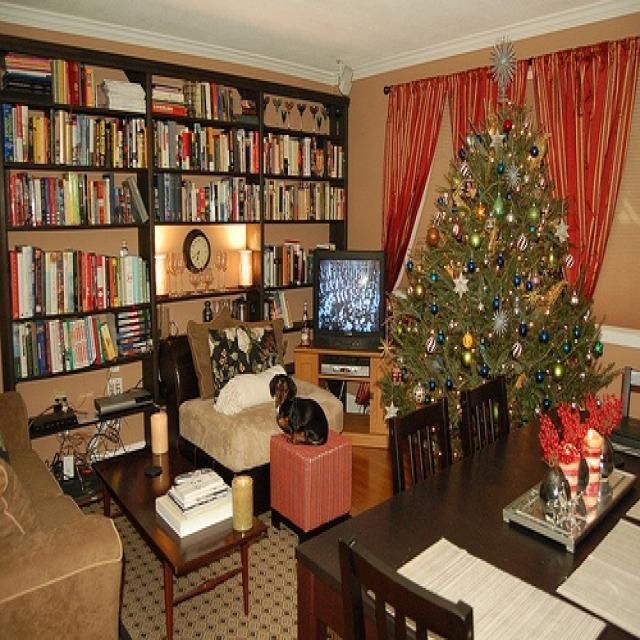chair: (339, 535, 478, 639), (384, 394, 454, 489), (458, 375, 509, 460), (621, 363, 640, 427)
diningtable: (299, 392, 640, 639)
dog: (269, 373, 329, 450)
sofa: (1, 382, 126, 639)
tvmonitor: (311, 248, 389, 348)
